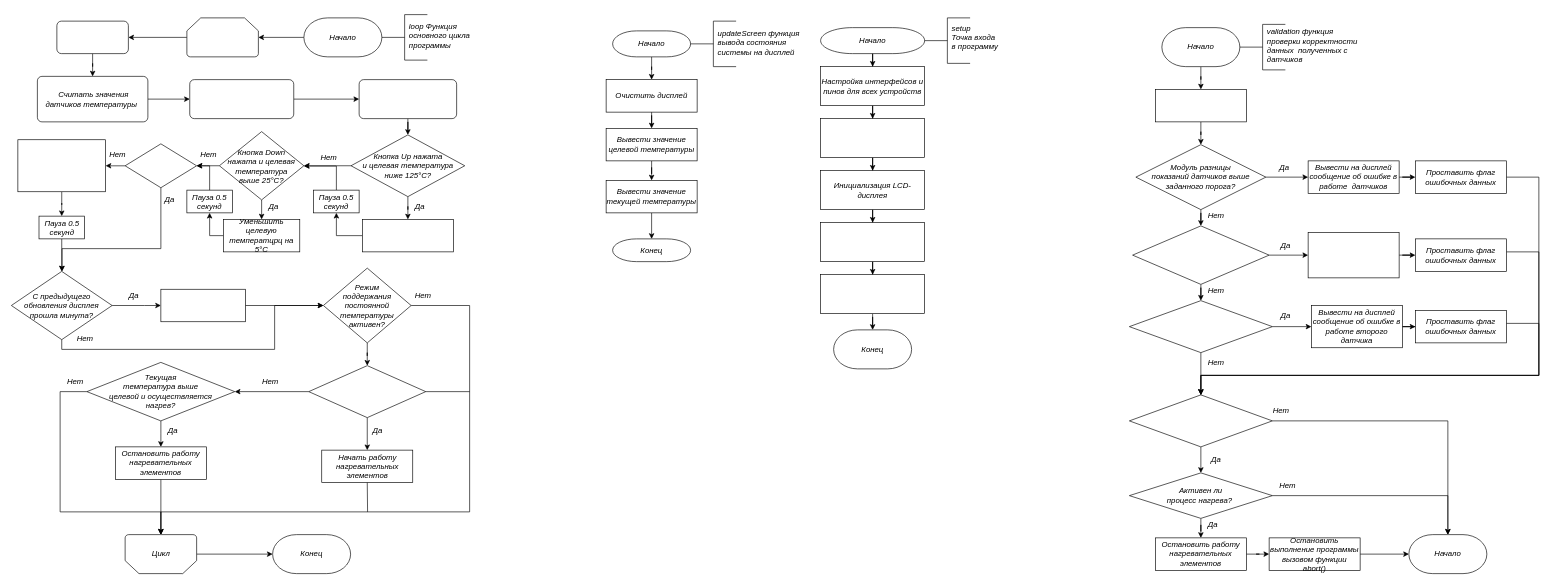
Some shapes in this 1555 by 585 pixel diagram are drawn without their labels. Each missing label, with the centre of its shape:
Вывести на дисплей сообщение об ошибке в работе первого датчика: the point at 1353,255
Вывод на дисплей приветственного сообщения на 3 секунды: the point at 872,242
Вызов функции валидации значений, полученных с датчиков: the point at 241,99
вызов функции основного цикла программы: the point at 872,294
Вычисление усредненного значения текущей температуры: the point at 407,99
Задание начальных значений флагам: the point at 1200,105
Изменить значение флага поддерживания постоянной температуры на противоположное: the point at 61,165
Кнопка Start нажата?: the point at 160,165
Обновить показатели, выводимые на дисплей: the point at 202,305
Основной цикл программы: the point at 222,37
Показания второго установленного порога?: the point at 1200,326
Показания первого датчика выше установленного порога?: the point at 1200,254
Считать состояние кнопок Up, Down, Start: the point at 92,37
Текущая температура ниже целевой и нагрев выключен?: the point at 367,391
Увеличить целевую температцрц на 5°C: the point at 407,235
Установить начальные состояния нагревателей (HIGH): the point at 872,138
Установлен флаг ошибочных данных?: the point at 1200,420
